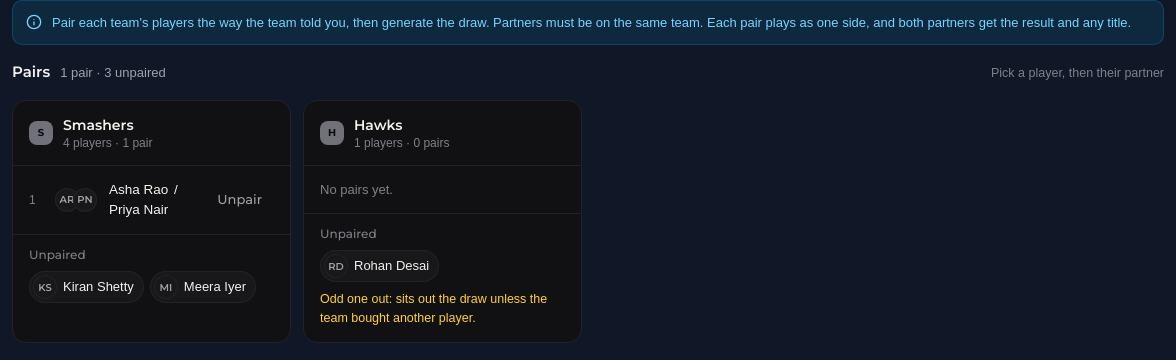
Test: PairingPanel › picking someone on another team moves the pick instead of pairing
Click the button "KS Kiran Shetty" at {"x": 86, "y": 287}, box [29,271,144,303]
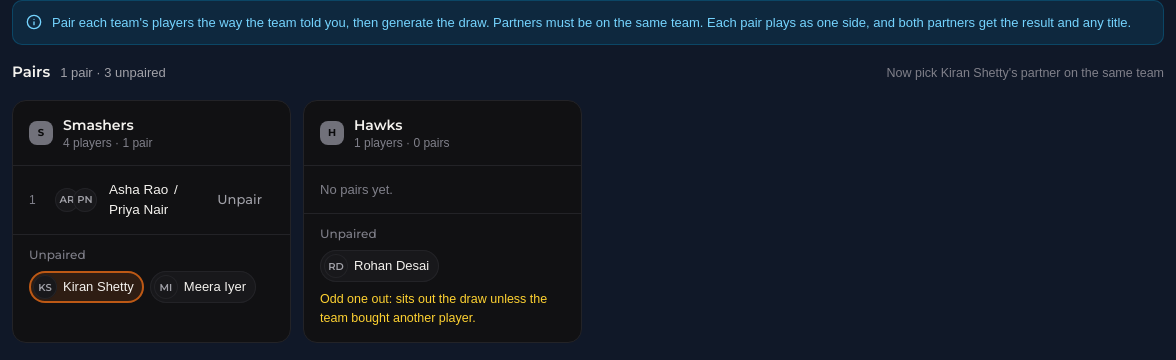
Click the button "RD Rohan Desai" at {"x": 380, "y": 266}, box [320,250,439,282]
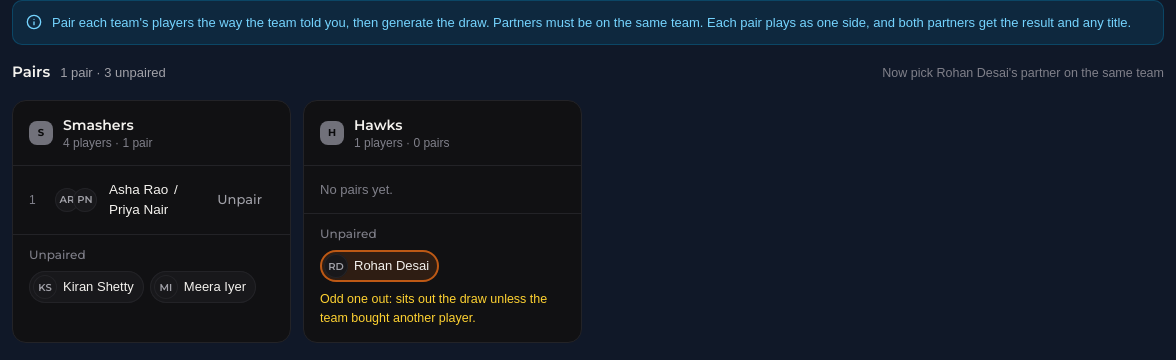
Expected: the text "Now pick Rohan Desai's partner on the same team" is shown, [882,64,1164,83]
